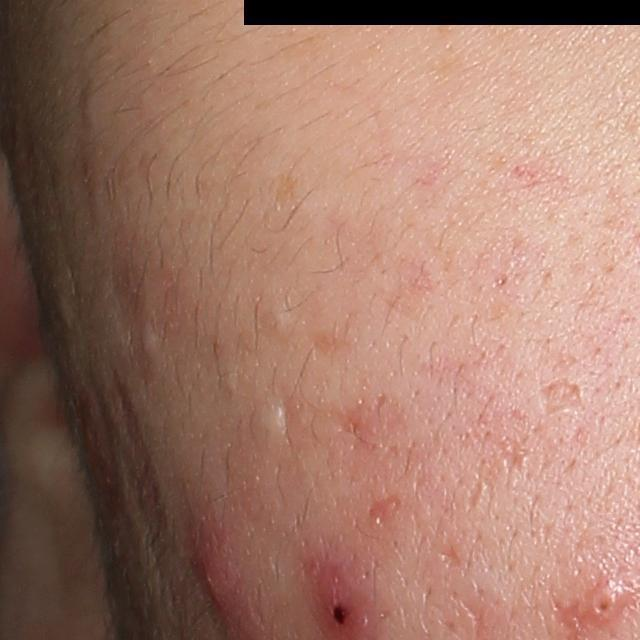atrophic_scar: (532, 376, 587, 420), (365, 491, 406, 529), (439, 543, 464, 572)
comedo: (259, 296, 300, 338), (137, 316, 167, 361)
hypertrophic_scar: (247, 402, 291, 456)
papule: (582, 584, 623, 626)
